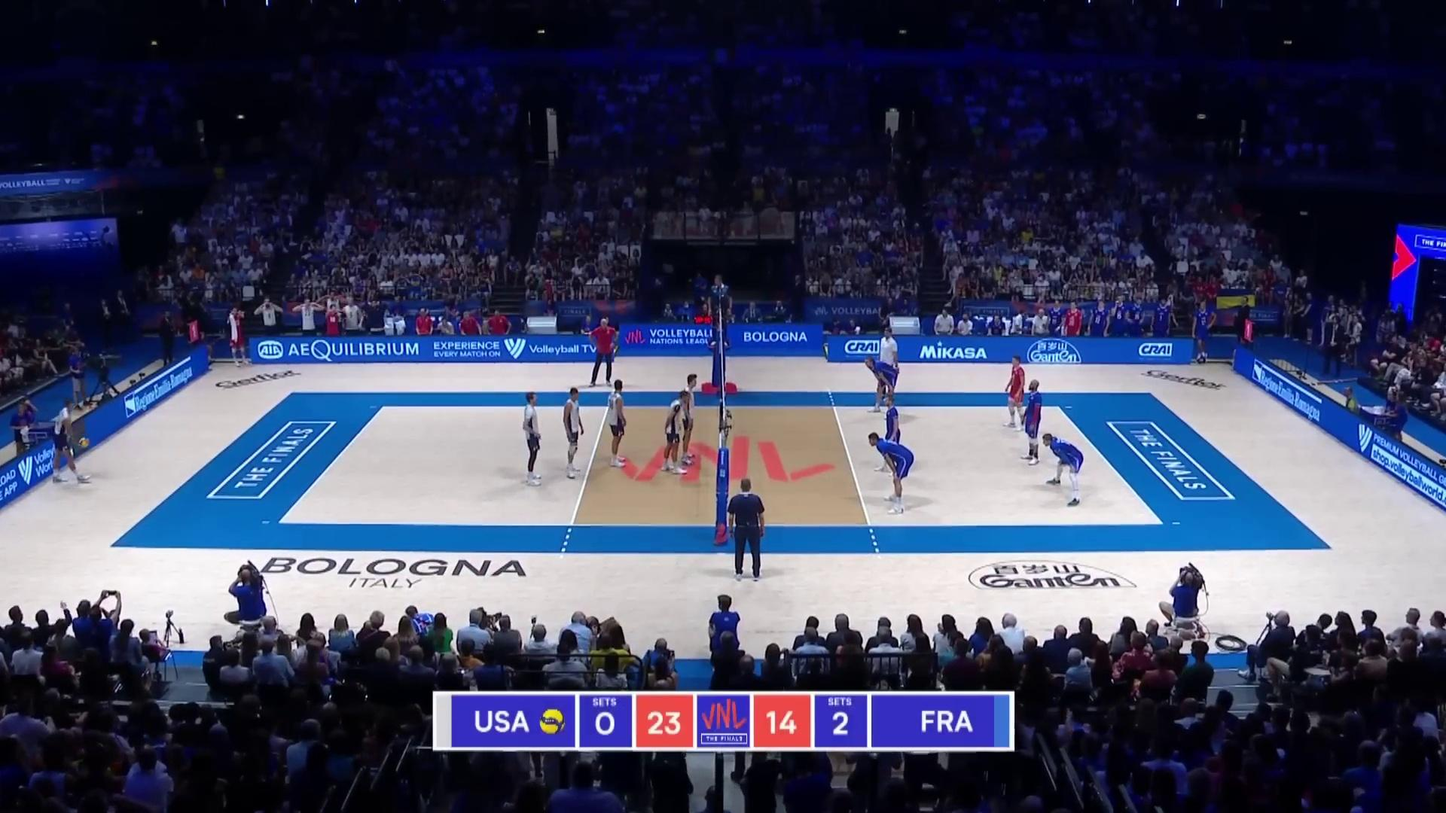player: (870, 427, 917, 515), (53, 400, 90, 484), (1042, 434, 1083, 505), (659, 390, 691, 473), (602, 380, 629, 473), (560, 387, 584, 482), (522, 391, 544, 484), (864, 358, 900, 412), (1021, 379, 1042, 464), (877, 395, 898, 473), (682, 374, 700, 464), (1006, 355, 1023, 428)
refree: (725, 482, 764, 579), (709, 276, 732, 345)
